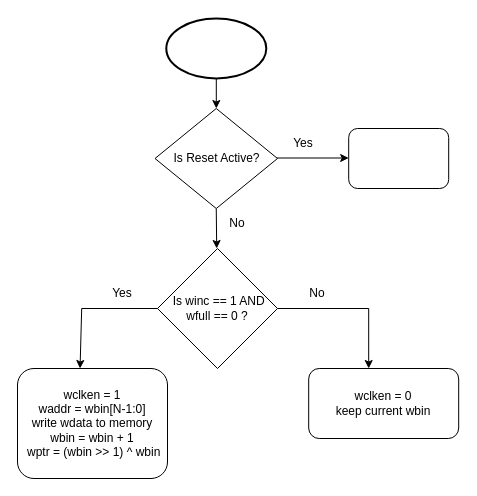
Image size: 477x496. Some labels were removed from this diagram. The centre of each missing label's shape, as x and y in pixels:
start: [216,48]
wbin = 0 wptr = 0 waddr = 0: [398,158]
